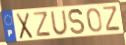O: (86, 7, 103, 34)
S: (67, 8, 86, 36)
U: (49, 9, 70, 37)
X: (15, 12, 34, 41)
Z: (32, 10, 52, 37), (102, 4, 121, 32)
